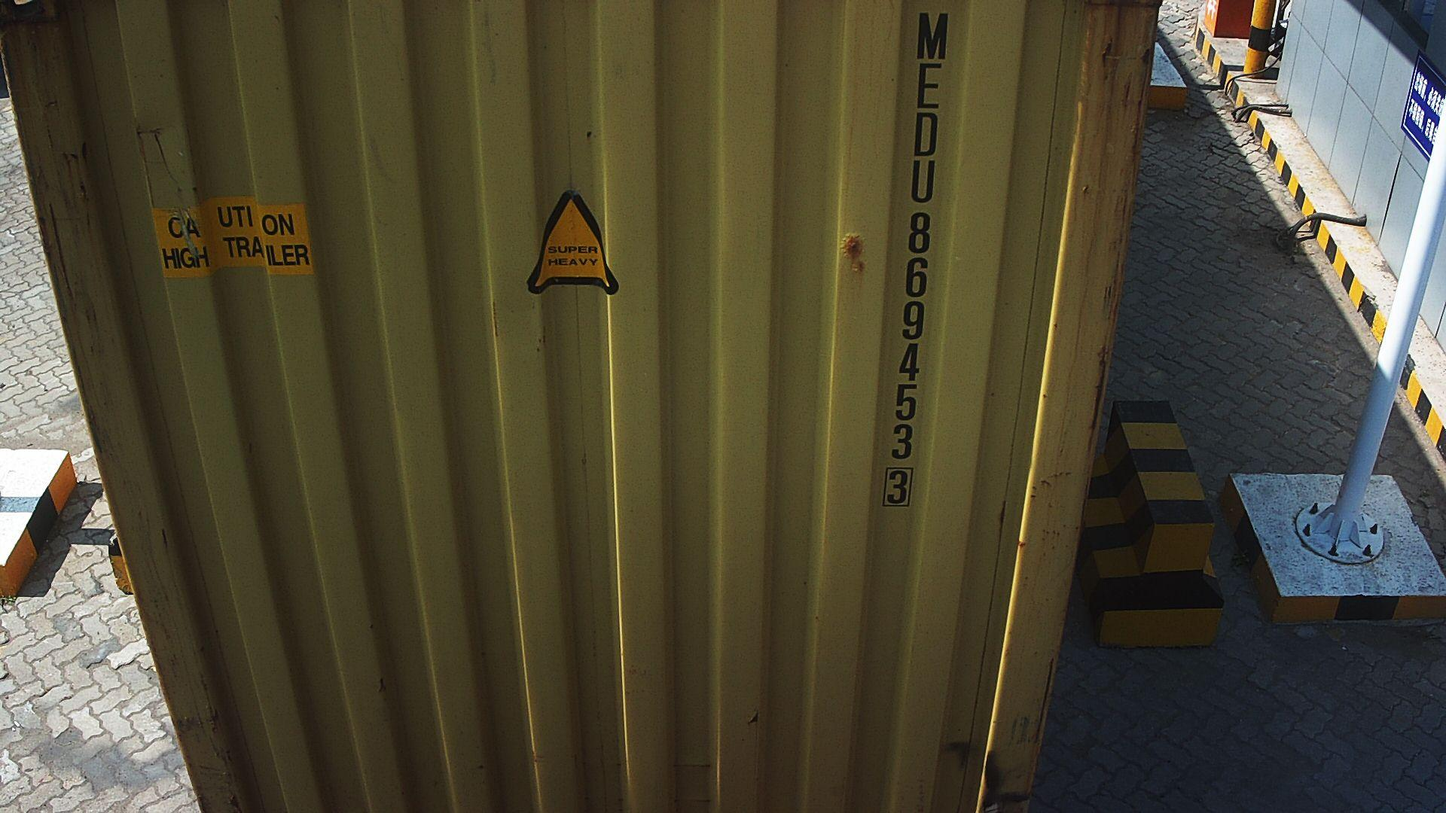container-numbers: (878, 4, 953, 511)
